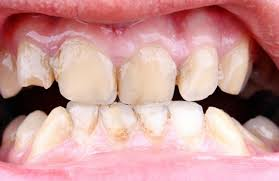decay: (177, 49, 217, 102)
normal: (36, 108, 68, 159), (171, 104, 201, 146), (17, 108, 43, 152), (68, 99, 98, 134), (246, 115, 279, 144)
rough: (50, 47, 116, 104), (100, 101, 132, 140), (19, 46, 45, 92), (137, 102, 167, 139)
yellow: (119, 52, 175, 104), (206, 105, 242, 157), (219, 41, 252, 92), (2, 113, 24, 156), (1, 53, 17, 96)
